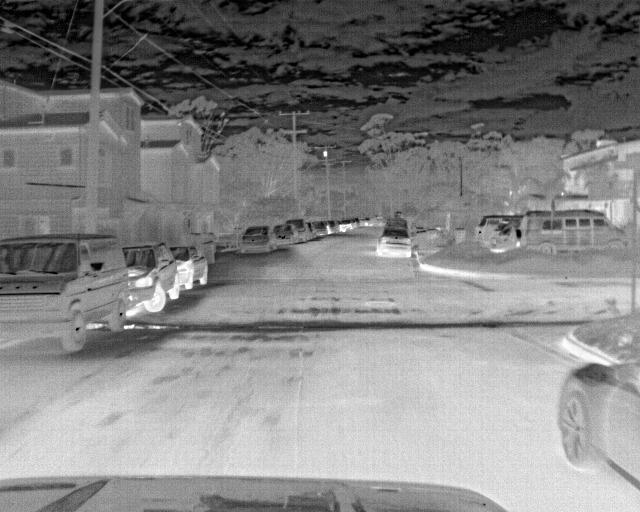car: (2, 232, 128, 358), (557, 357, 639, 493), (521, 209, 628, 253), (124, 244, 179, 314), (475, 213, 522, 245), (175, 244, 209, 288), (235, 225, 280, 255), (377, 226, 412, 257), (489, 219, 520, 252), (285, 219, 311, 241), (270, 225, 298, 244), (313, 221, 328, 236), (325, 220, 339, 234), (337, 220, 353, 232)
